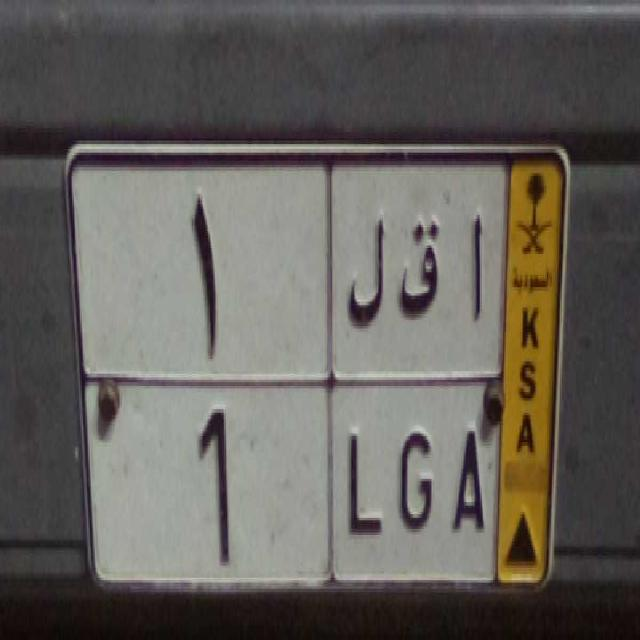license_plate: (80, 370, 501, 594)
